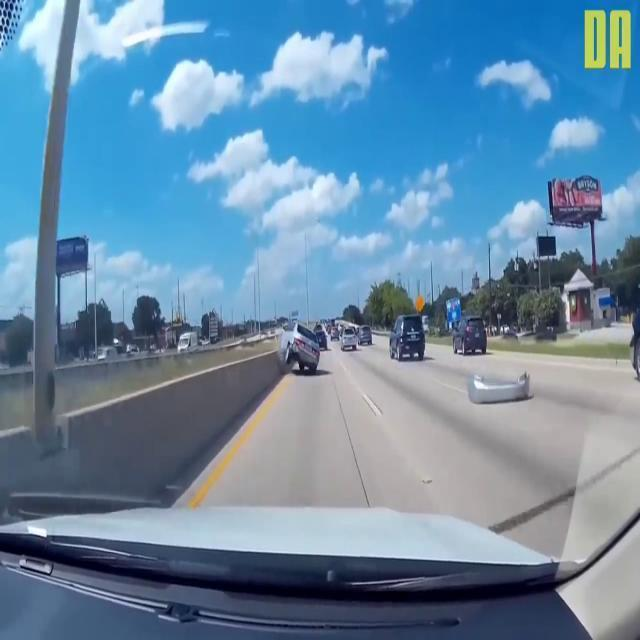accident: (265, 322, 321, 378)
non-accident: (390, 314, 490, 364), (332, 320, 372, 352)
